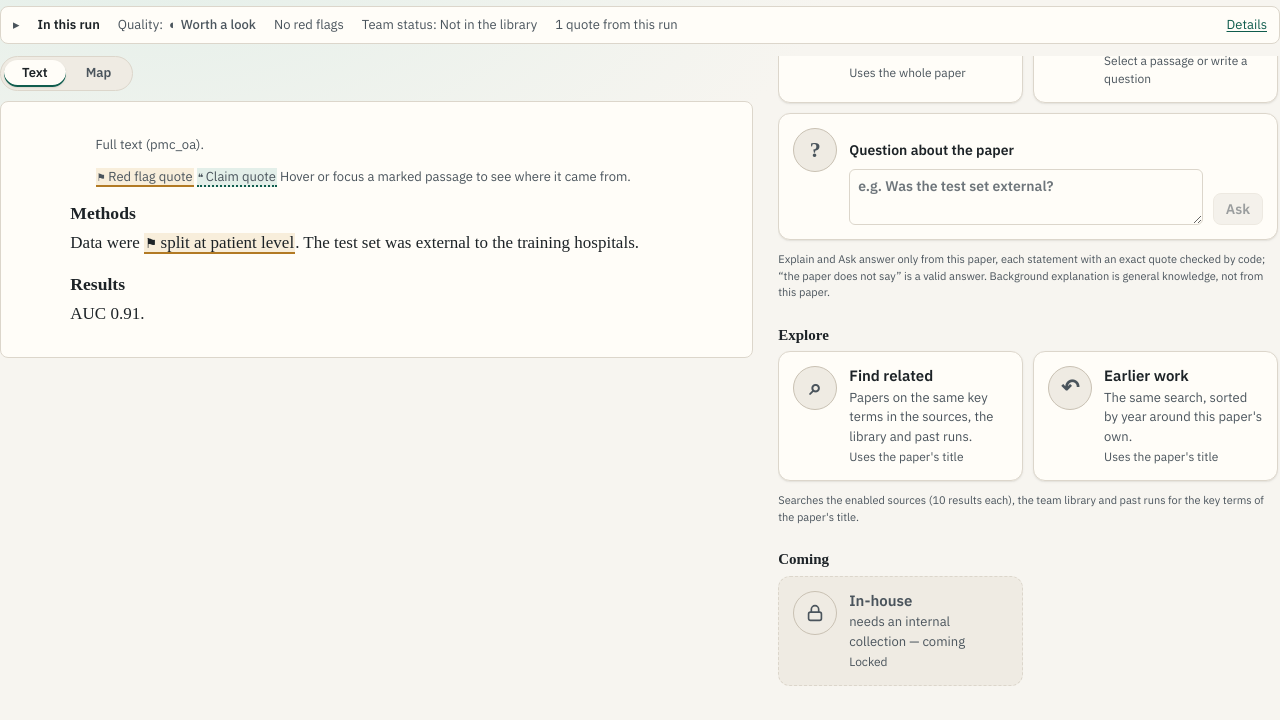
ReaderPage › lists earlier work by year with the paper's own year marked, never a novelty verdict
This screenshot has width=1280, height=720.
(page scrolled)
Click the button "Earlier work". click: (1146, 376)
box: 1104,366 -> 1189,386
(page scrolled)
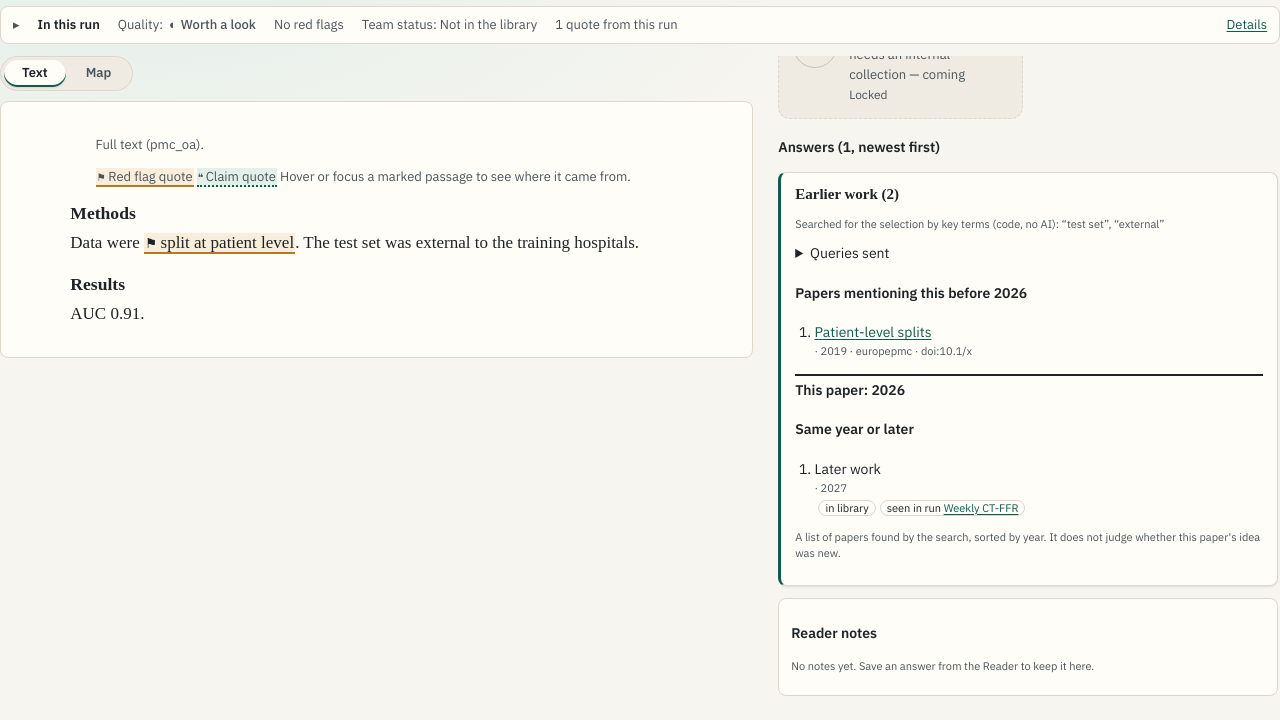
expect the heading "Papers mentioning this before 2026" is shown: met, box 795,284 -> 1027,302
expect the text "This paper: 2026" is shown: met, box 795,381 -> 905,399
